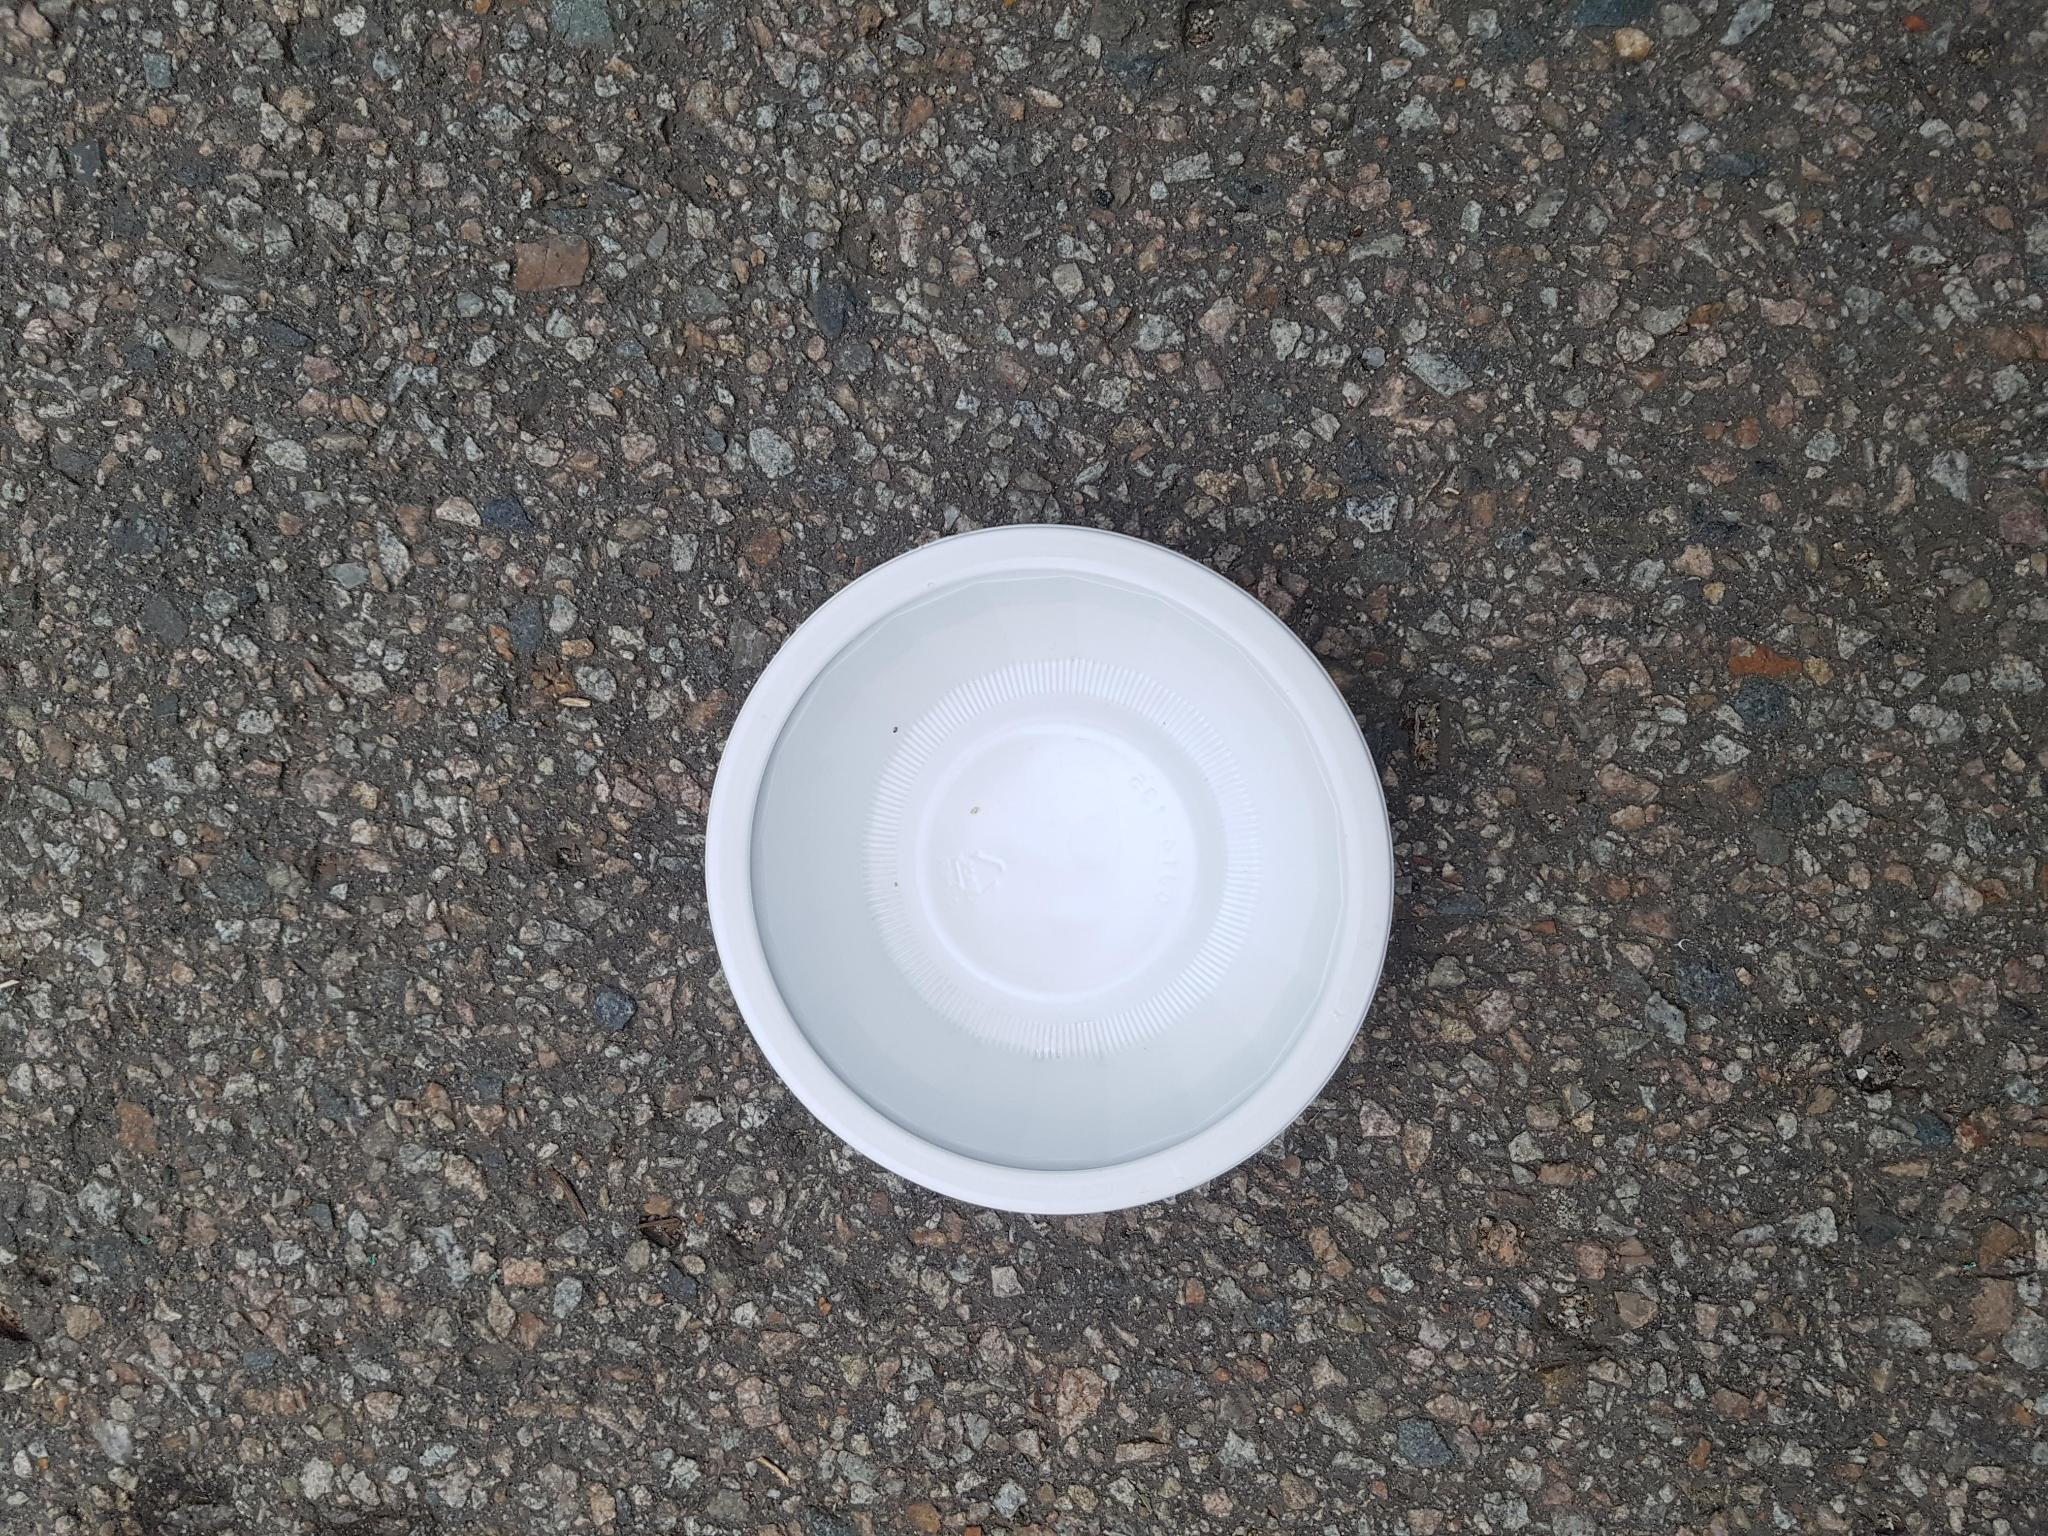bottle: (316, 514, 1406, 1050)
